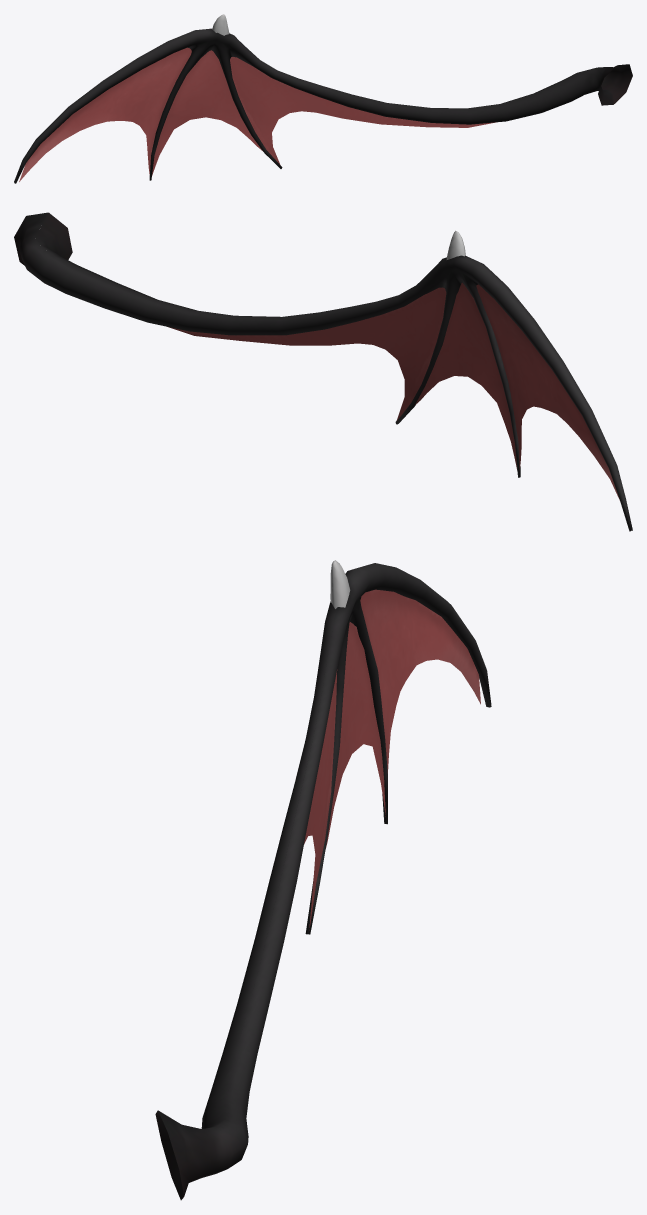
File: wing_R.obj
3 views of the same model, one above another, from view 1: azimuth 30°, elevation 25°; view 2: azimuth 150°, elevation 25°; view 3: azimuth 270°, elevation 25° (orthographic). The views are drawn at different scales.
Visible parts, largest first — view 1: wing_R; view 2: wing_R; view 3: wing_R.
Boxes of the visible parts, box(x1,y1,x2,y2) form: wing_R: box(14, 14, 632, 183); wing_R: box(14, 212, 632, 531); wing_R: box(155, 560, 491, 1200).
Size of the model in its own units: 0.4278 by 0.1225 by 0.115.
Materials: 1 (1 with a texture image).
